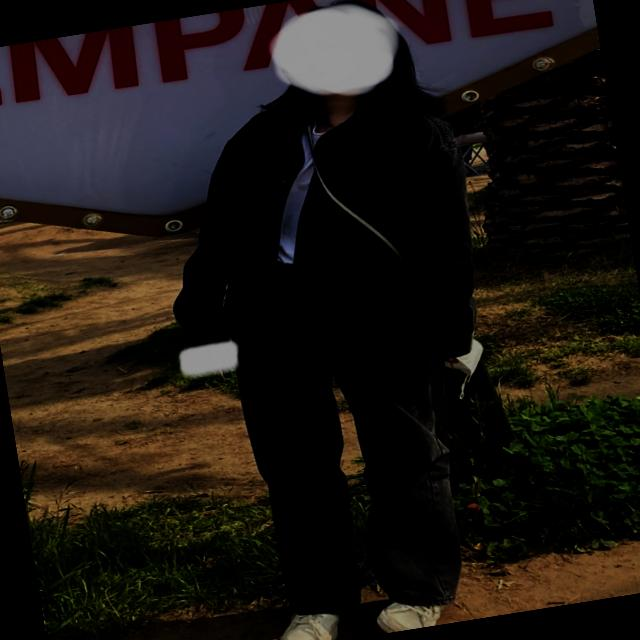denimpants: (224, 234, 478, 629)
jacket: (148, 73, 498, 400)
